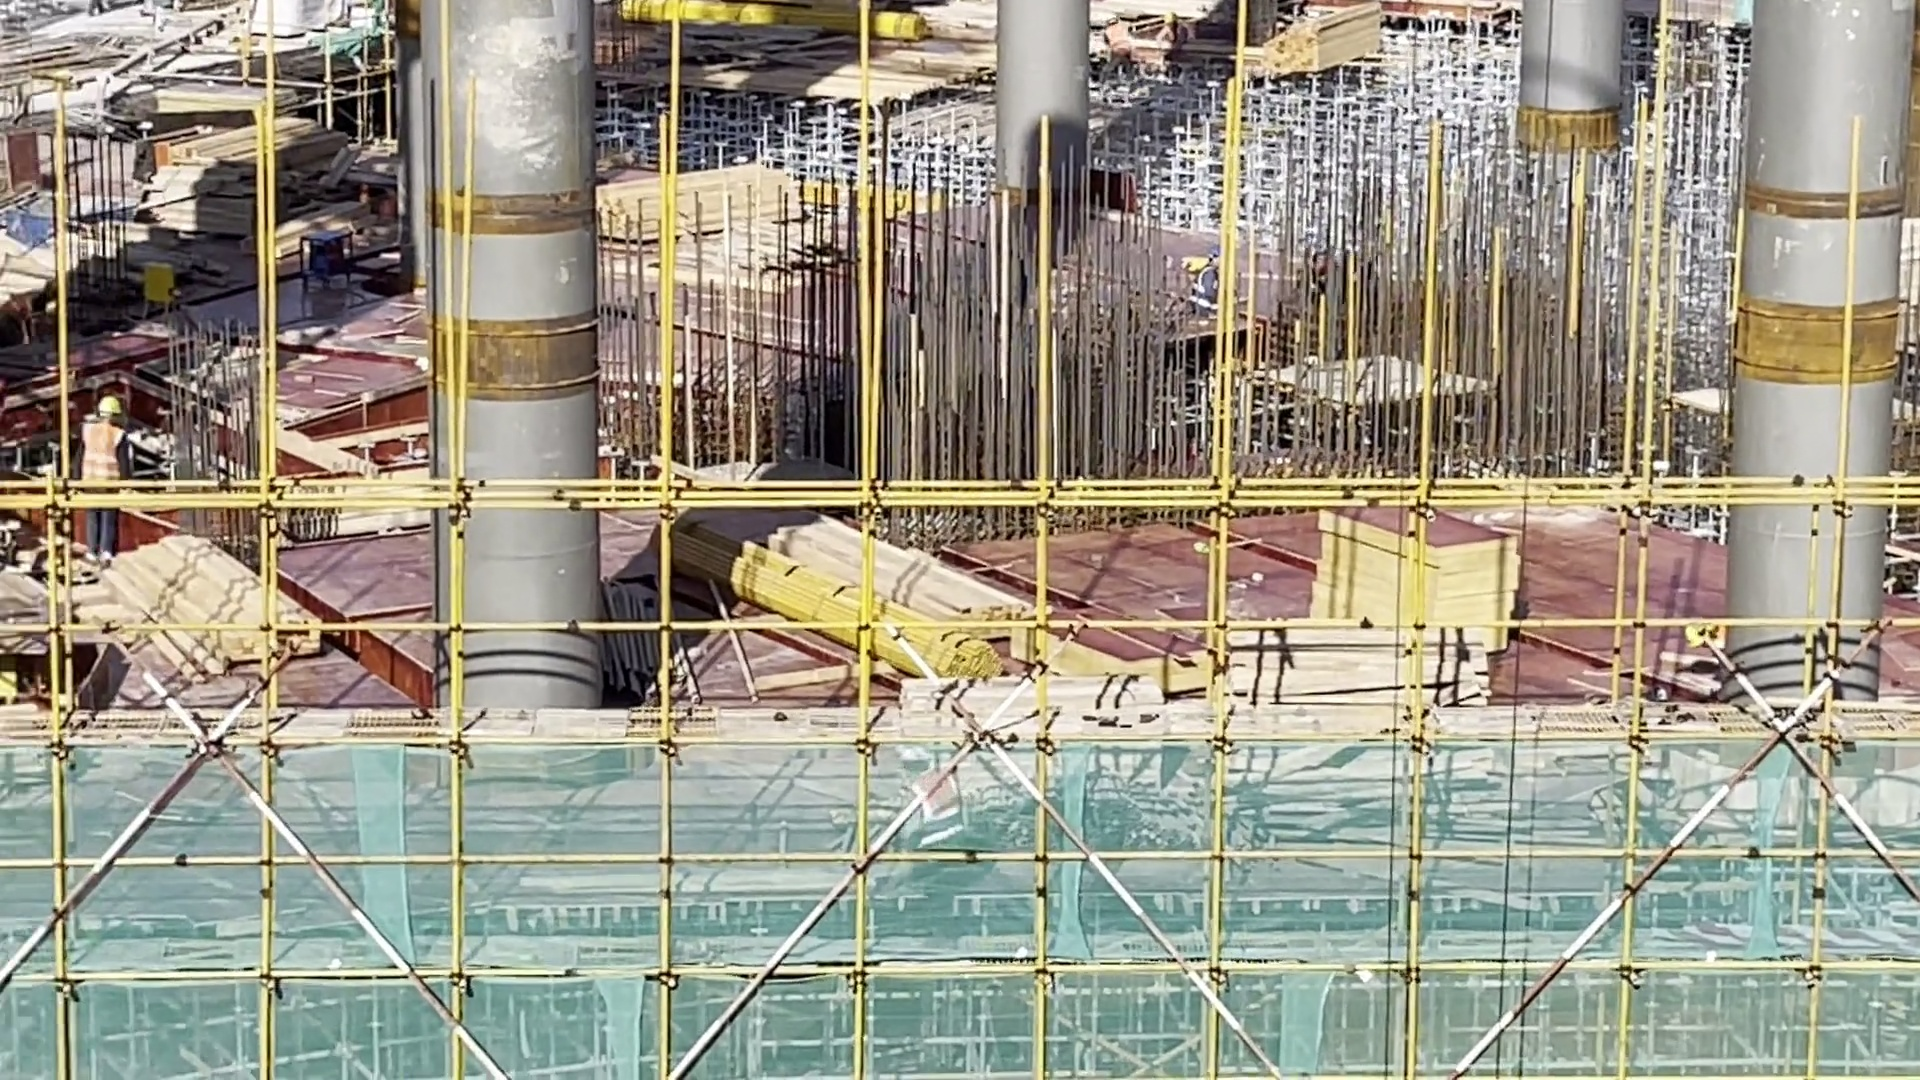board: (1324, 503, 1523, 631), (154, 120, 354, 237)
helmet: (97, 395, 121, 413)
person: (70, 397, 133, 576)
wood: (759, 519, 1040, 689), (128, 546, 328, 677), (598, 184, 816, 233), (1271, 10, 1381, 74)
